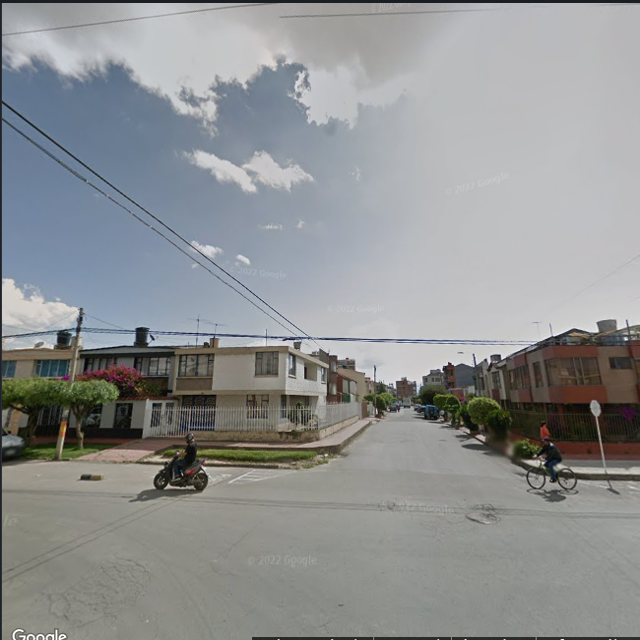D00: (205, 518, 262, 568)
D20: (49, 553, 153, 615)
